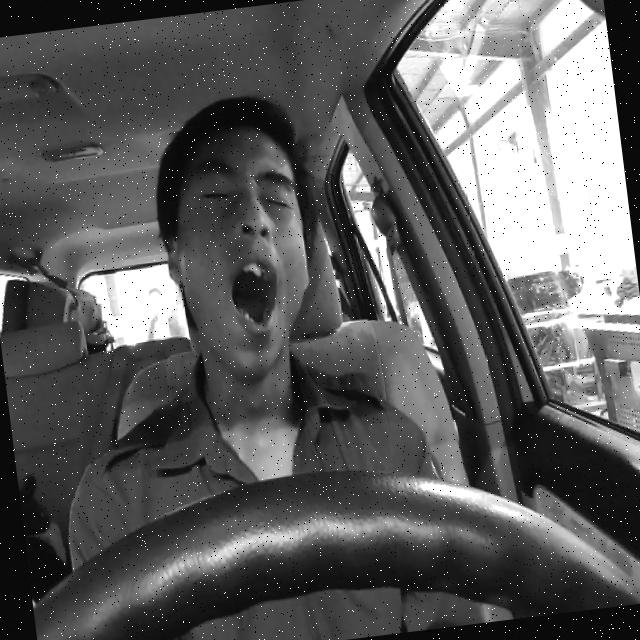yarning: (151, 119, 319, 384)
